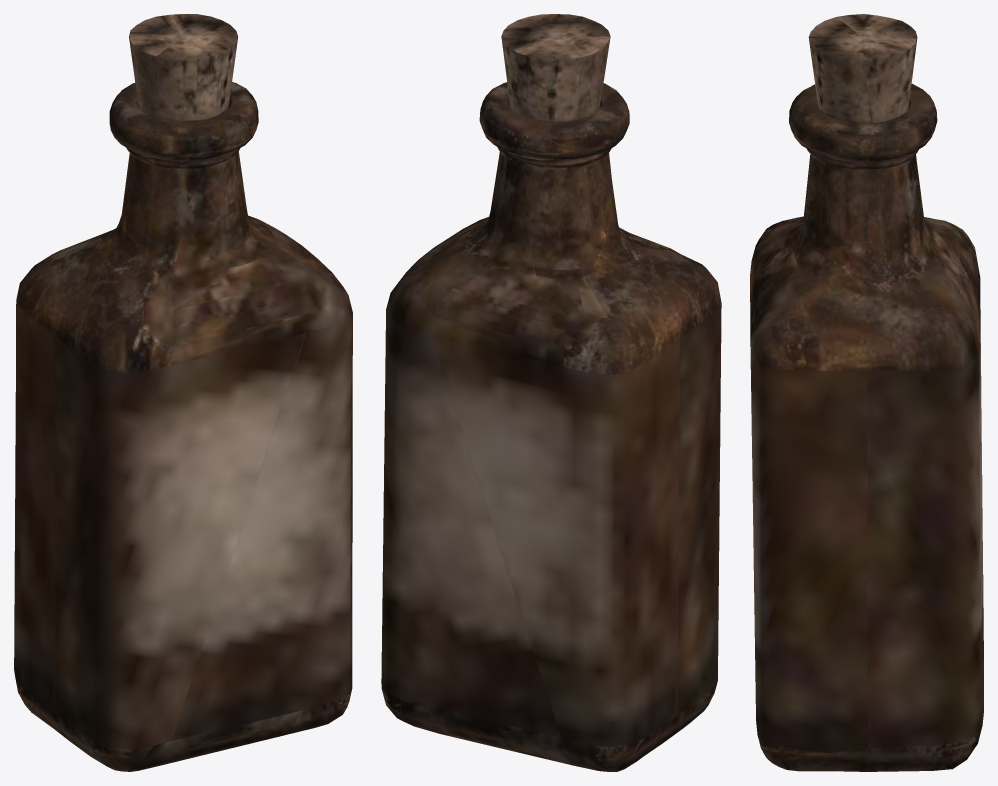
The model's file is d_bottle_A_labeled_brown.glb.
3 renders of one model, left to right at view 1: azimuth 30°, elevation 25°; view 2: azimuth 150°, elevation 25°; view 3: azimuth 270°, elevation 25°, orthographic.
Visible parts, largest first — view 1: d_bottle_A_labeled_brown; view 2: d_bottle_A_labeled_brown; view 3: d_bottle_A_labeled_brown.
Part boxes in pixels (x1,y1,x2,y2): d_bottle_A_labeled_brown: [14, 14, 352, 771]; d_bottle_A_labeled_brown: [381, 14, 721, 771]; d_bottle_A_labeled_brown: [750, 14, 983, 771].
Bounding box in the file's own units: 0.3497 × 0.8857 × 0.2752.
Materials: 1 (1 with a texture image).
